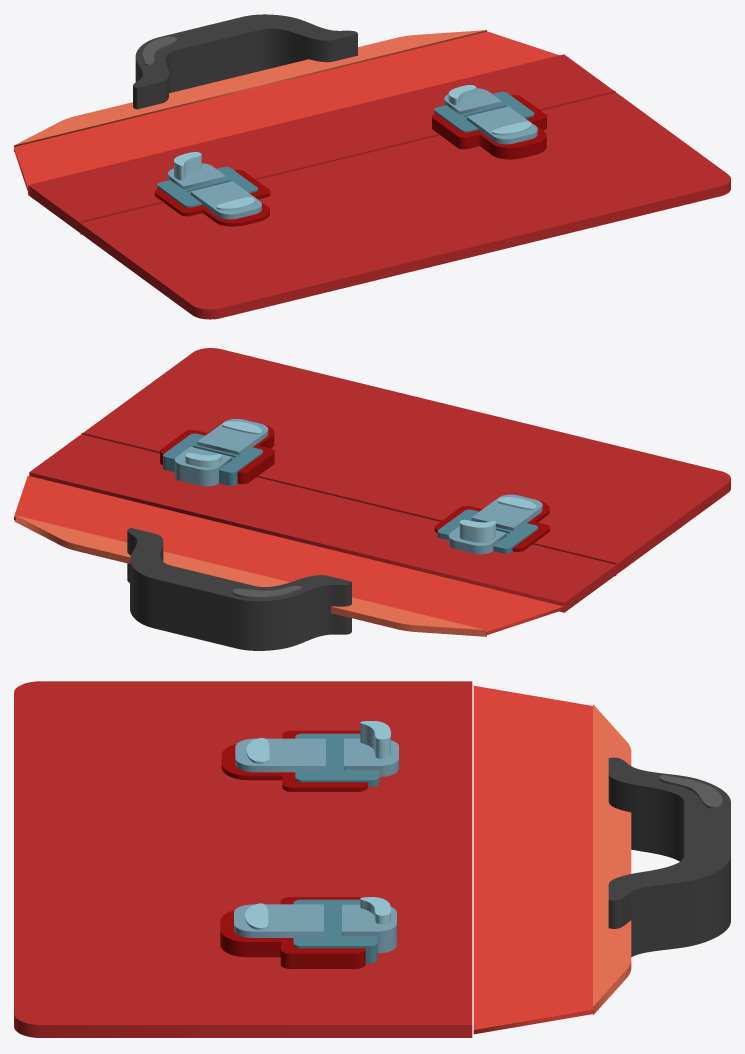
Rendered from emoji_u1f9f0.glb.
3 renders of one model, top to bottom at view 1: azimuth 30°, elevation 25°; view 2: azimuth 150°, elevation 25°; view 3: azimuth 270°, elevation 25°, orthographic. The views are drawn at different scales.
Parts seen in each view (by area): view 1: emoji_u1f9f0; view 2: emoji_u1f9f0; view 3: emoji_u1f9f0.
Part boxes in pixels (box(x1,y1,x2,y2)): emoji_u1f9f0: box(14, 14, 730, 319); emoji_u1f9f0: box(14, 348, 730, 650); emoji_u1f9f0: box(14, 681, 730, 1037).
Bounding box in the file's own units: 0.0339 × 0.0034 × 0.0298.
